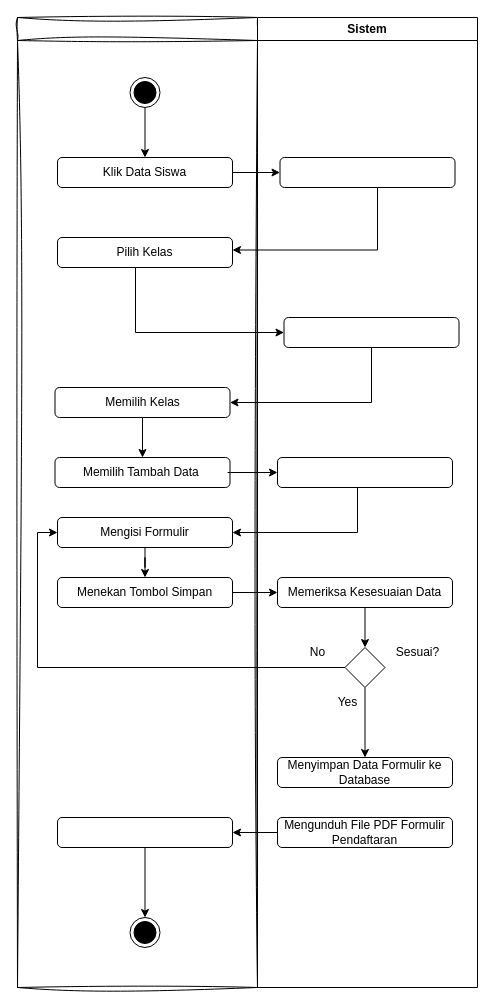
Image size: 495x1005. Some labels were removed from this diagram. The box of each missing label's shape, as (x1, y1, x2, y2) in pixels:
Aktor: (16, 16, 258, 988)
Memberikan File Formulir PDF ke Pendaftar: (56, 816, 232, 848)
Menampilkan Formulir Pendaftaran Siswa: (276, 456, 452, 488)
Menampilkan Kelas-Kelas: (279, 156, 455, 188)
Menampilkan Pilihan Kelas: (283, 316, 459, 348)
